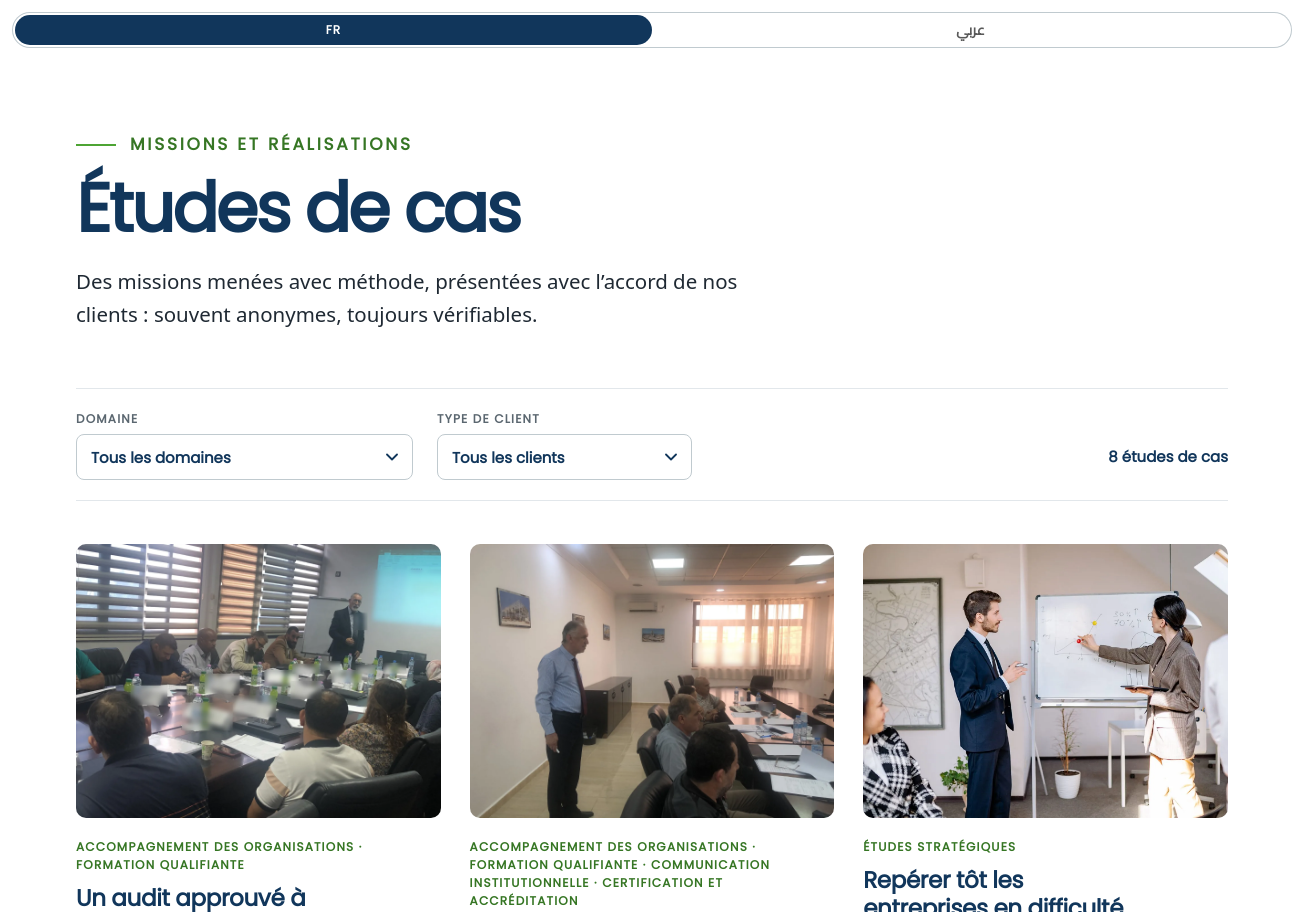
Test: Page « Missions et réalisations » › passe en arabe
The width and height of the screenshot is (1304, 912).
Click the button "عربي".
click(970, 30)  # box [652,15,1289,45]
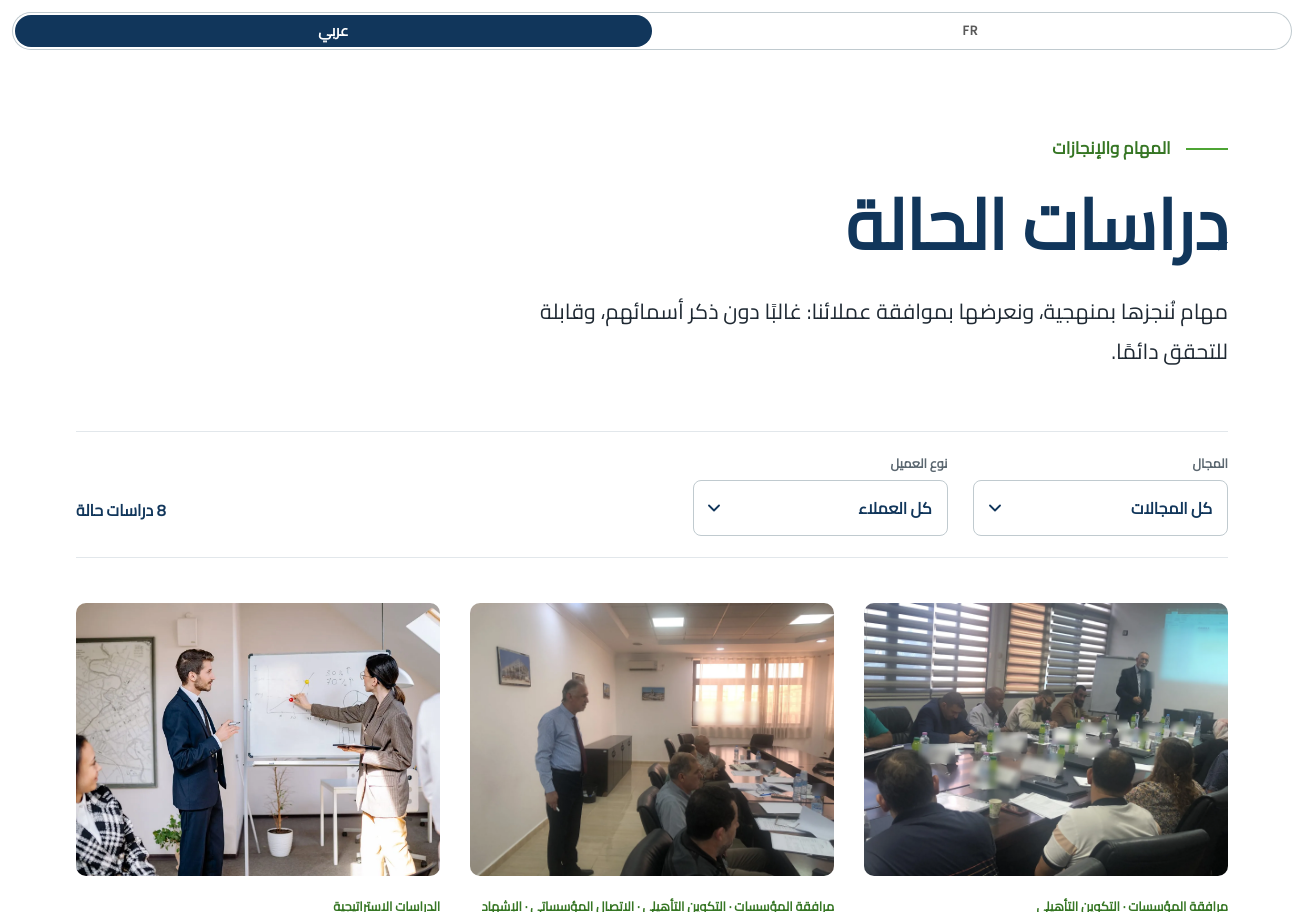
Expected: the heading reads "دراسات الحالة", [845,158,1228,290]
